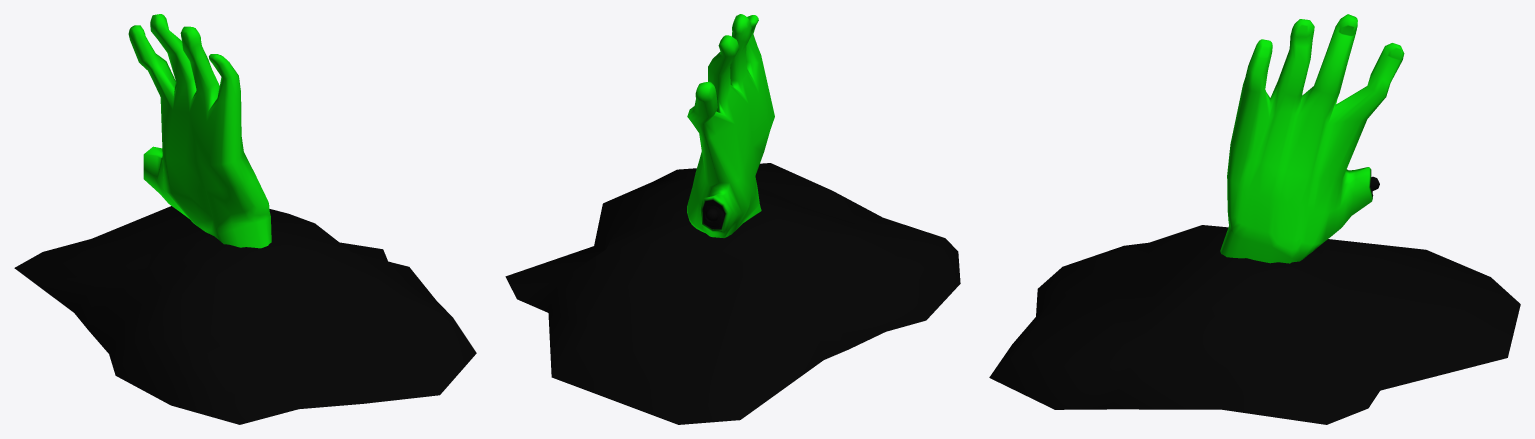
Rendered from SeveredHandFBX_mesh.fbx.
3 renders of one model, left to right at view 1: azimuth 30°, elevation 25°; view 2: azimuth 150°, elevation 25°; view 3: azimuth 270°, elevation 25°, orthographic. The views are drawn at different scales.
Parts seen in each view (by area): view 1: SeveredHand_mesh; view 2: SeveredHand_mesh; view 3: SeveredHand_mesh.
Part boxes in pixels (<box>): SeveredHand_mesh: <box>14,14,476,424</box>; SeveredHand_mesh: <box>505,14,960,424</box>; SeveredHand_mesh: <box>989,14,1520,424</box>.
Size of the model in its own units: 0.4405 by 0.373 by 0.5828.
